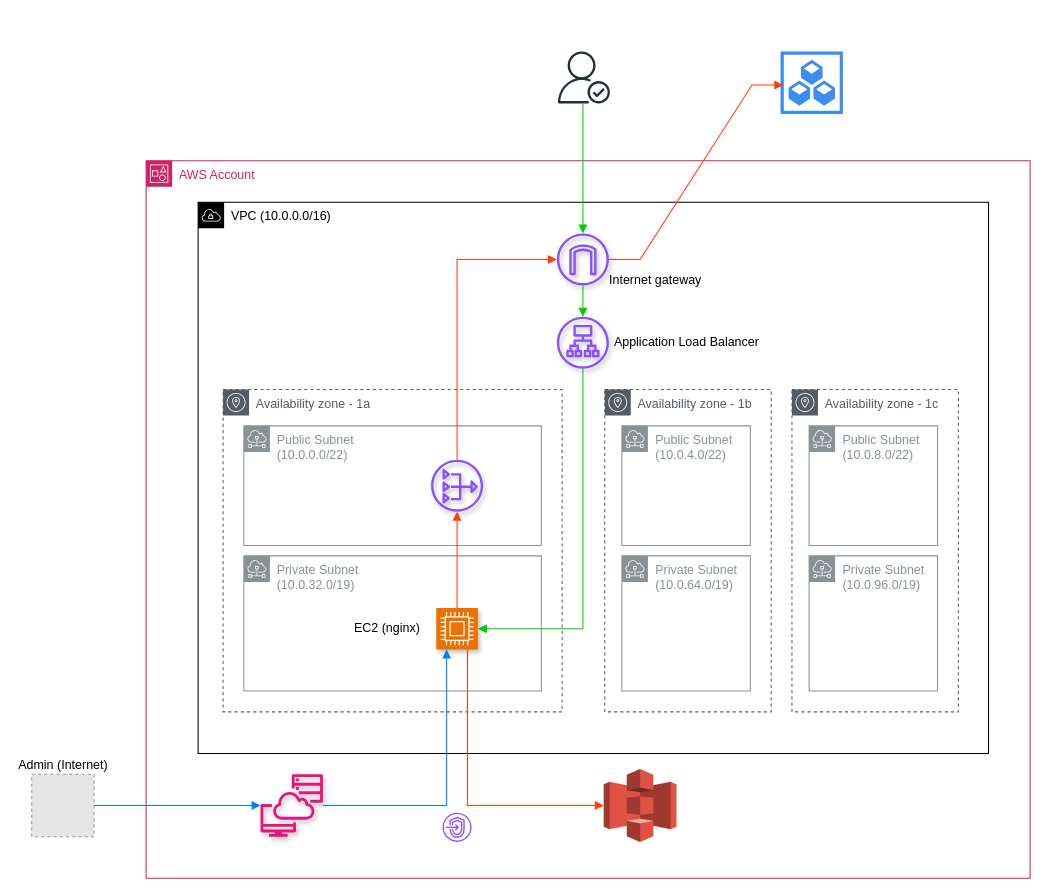
The diagram is 1048 pixels wide and 896 high, and some of its shapes have lost their labels. Grey dashed boxes stand in for pictures. The centre of each missing label's shape, as x and y in pixels:
"AWS SSM" belongs at point 292,806.
"Internet Users" belongs at point 583,77.
"Nat gateway" belongs at point 457,486.
"Package Repos (dnf/apt mirrors)" belongs at point 811,82.
"S3 (assets/index.html)" belongs at point 640,805.
"VPC Endpoints" belongs at point 456,826.
